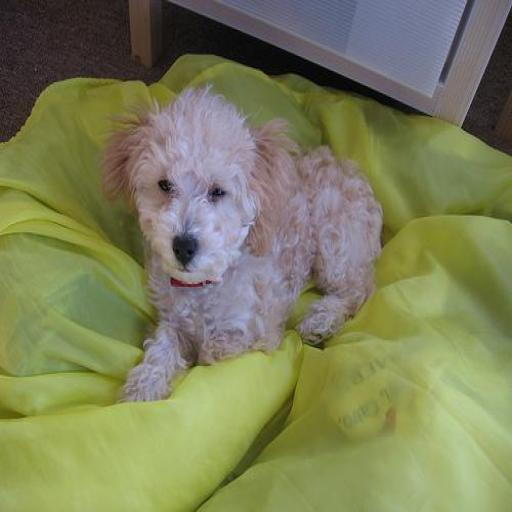dog_face: (100, 94, 295, 292)
